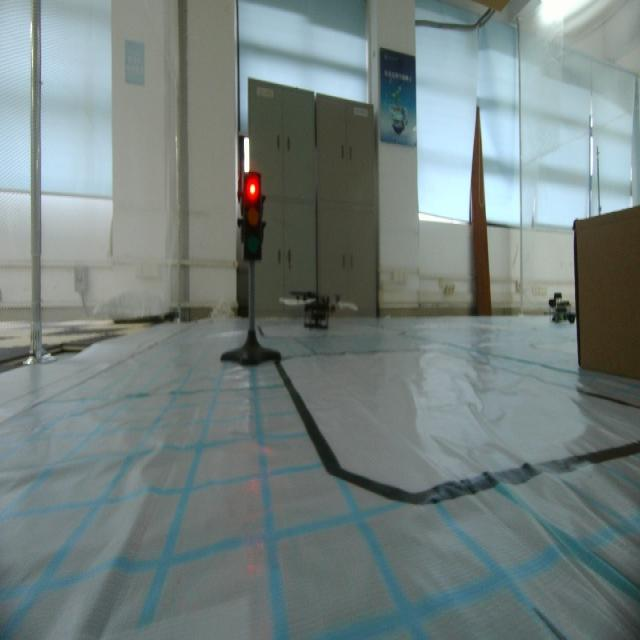red: (239, 171, 267, 263)
